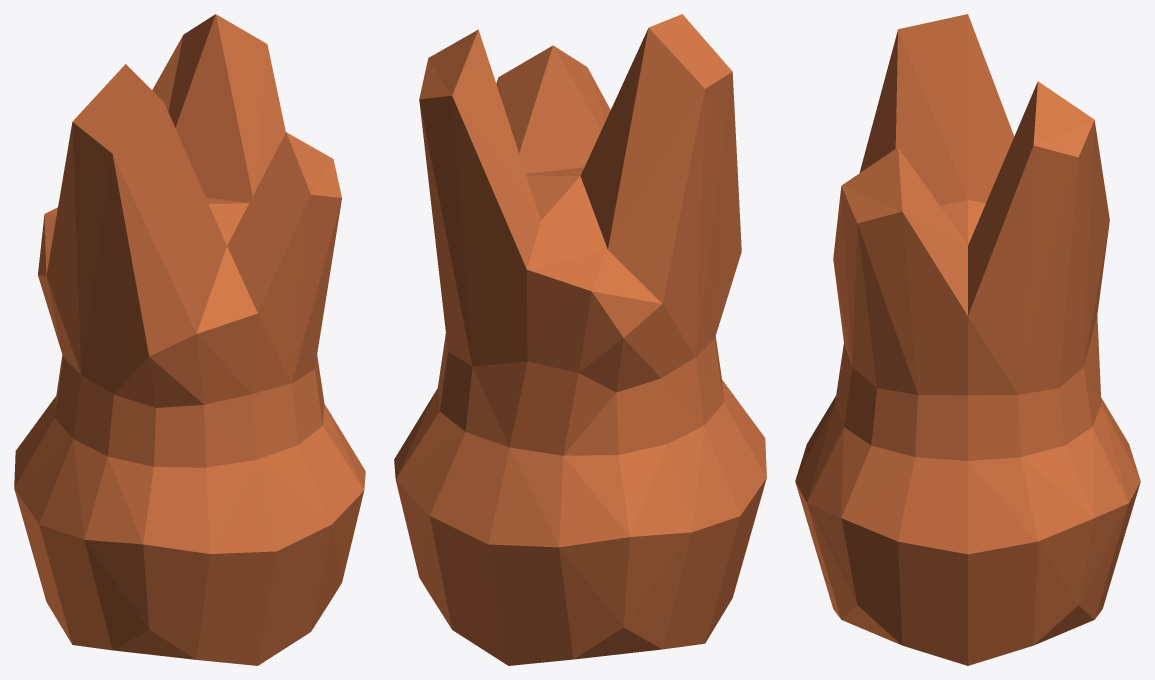
File: Sandstone 6.fbx
3 renders of one model, left to right at view 1: azimuth 30°, elevation 25°; view 2: azimuth 150°, elevation 25°; view 3: azimuth 270°, elevation 25°, orthographic. The views are drawn at different scales.
Visible parts, largest first — view 1: Sandstone Size 6; view 2: Sandstone Size 6; view 3: Sandstone Size 6.
Part boxes in pixels (bbox=[...]): Sandstone Size 6: bbox=[14, 14, 365, 665]; Sandstone Size 6: bbox=[394, 14, 766, 665]; Sandstone Size 6: bbox=[795, 14, 1140, 665].
Bounding box in the file's own units: 1000 × 1880 × 1000.
